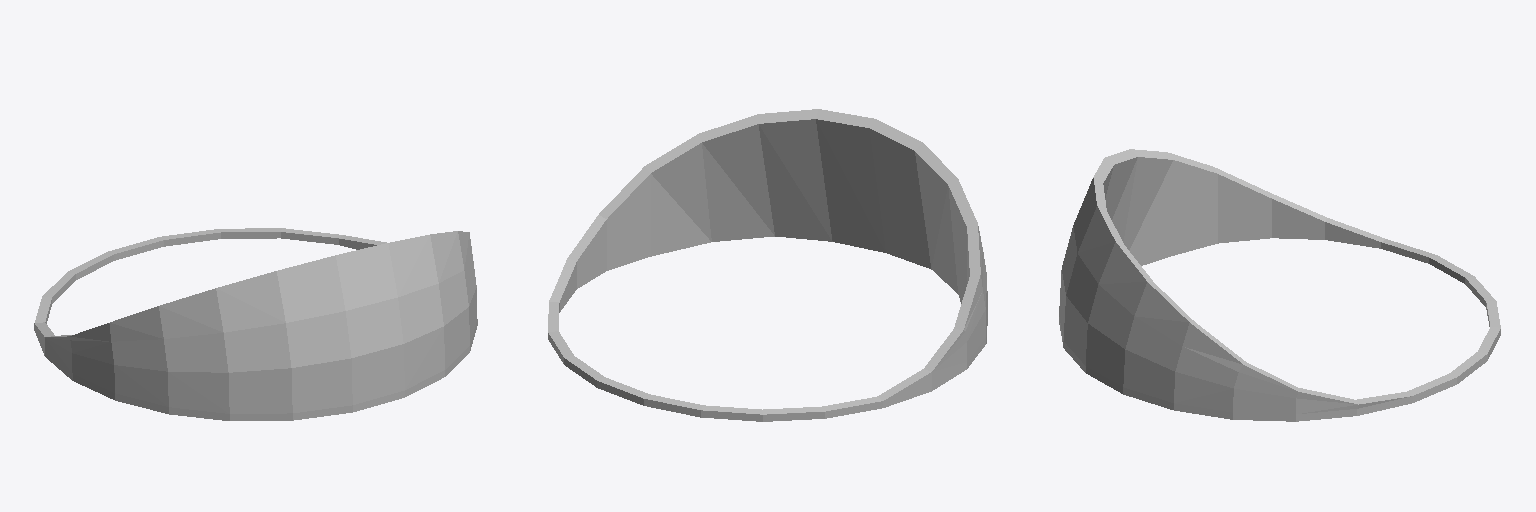
Rendered from LShoulderPitch.obj.
The picture shows the model from 3 angles: view 1: azimuth 30°, elevation 25°; view 2: azimuth 150°, elevation 25°; view 3: azimuth 270°, elevation 25°; orthographic projection.
Parts seen in each view (by area): view 1: root; view 2: root; view 3: root.
Boxes of the visible parts, x1,y1,x2,y2 form: root: [34, 228, 477, 420]; root: [548, 109, 987, 421]; root: [1059, 149, 1500, 421].
Size of the model in its own units: 65.98 by 23.84 by 65.98.